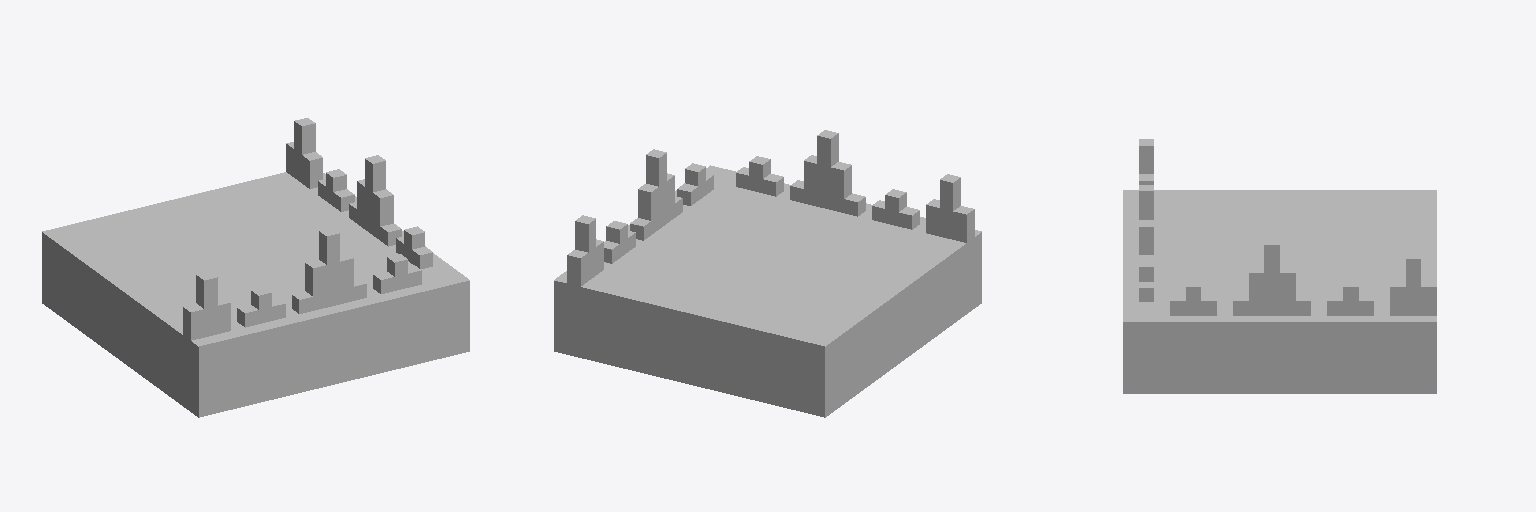
File: yeti owl-6.obj
3 views of the same model, side by side, from view 1: azimuth 30°, elevation 25°; view 2: azimuth 150°, elevation 25°; view 3: azimuth 270°, elevation 25° (orthographic).
Visible parts, largest first — view 1: object 1; view 2: object 1; view 3: object 1.
Part boxes in pixels (x1,y1,x2,y2): object 1: (42, 118, 469, 417); object 1: (554, 130, 981, 417); object 1: (1123, 139, 1436, 393).
Bounding box in the file's own units: 2 × 1 × 2.